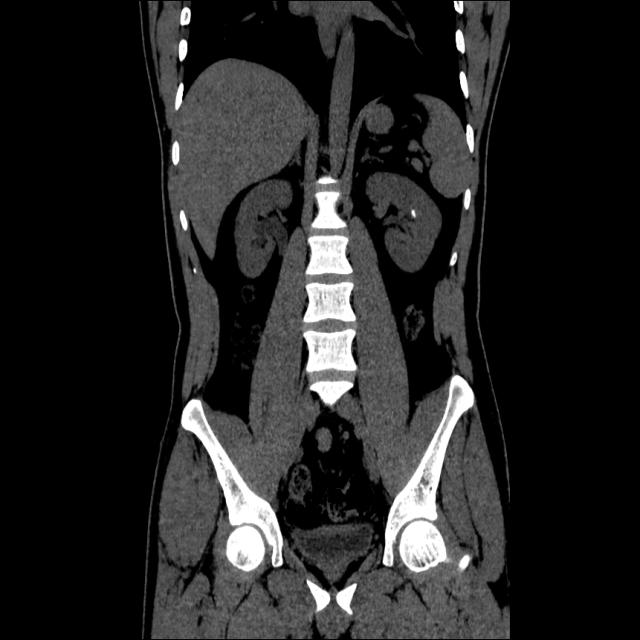kidneystone: (410, 203, 416, 217)
